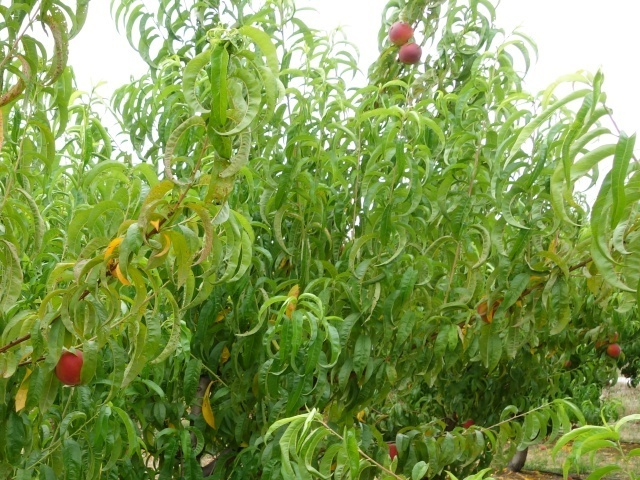peach: (45, 346, 88, 388), (385, 20, 416, 50), (395, 38, 426, 67)
